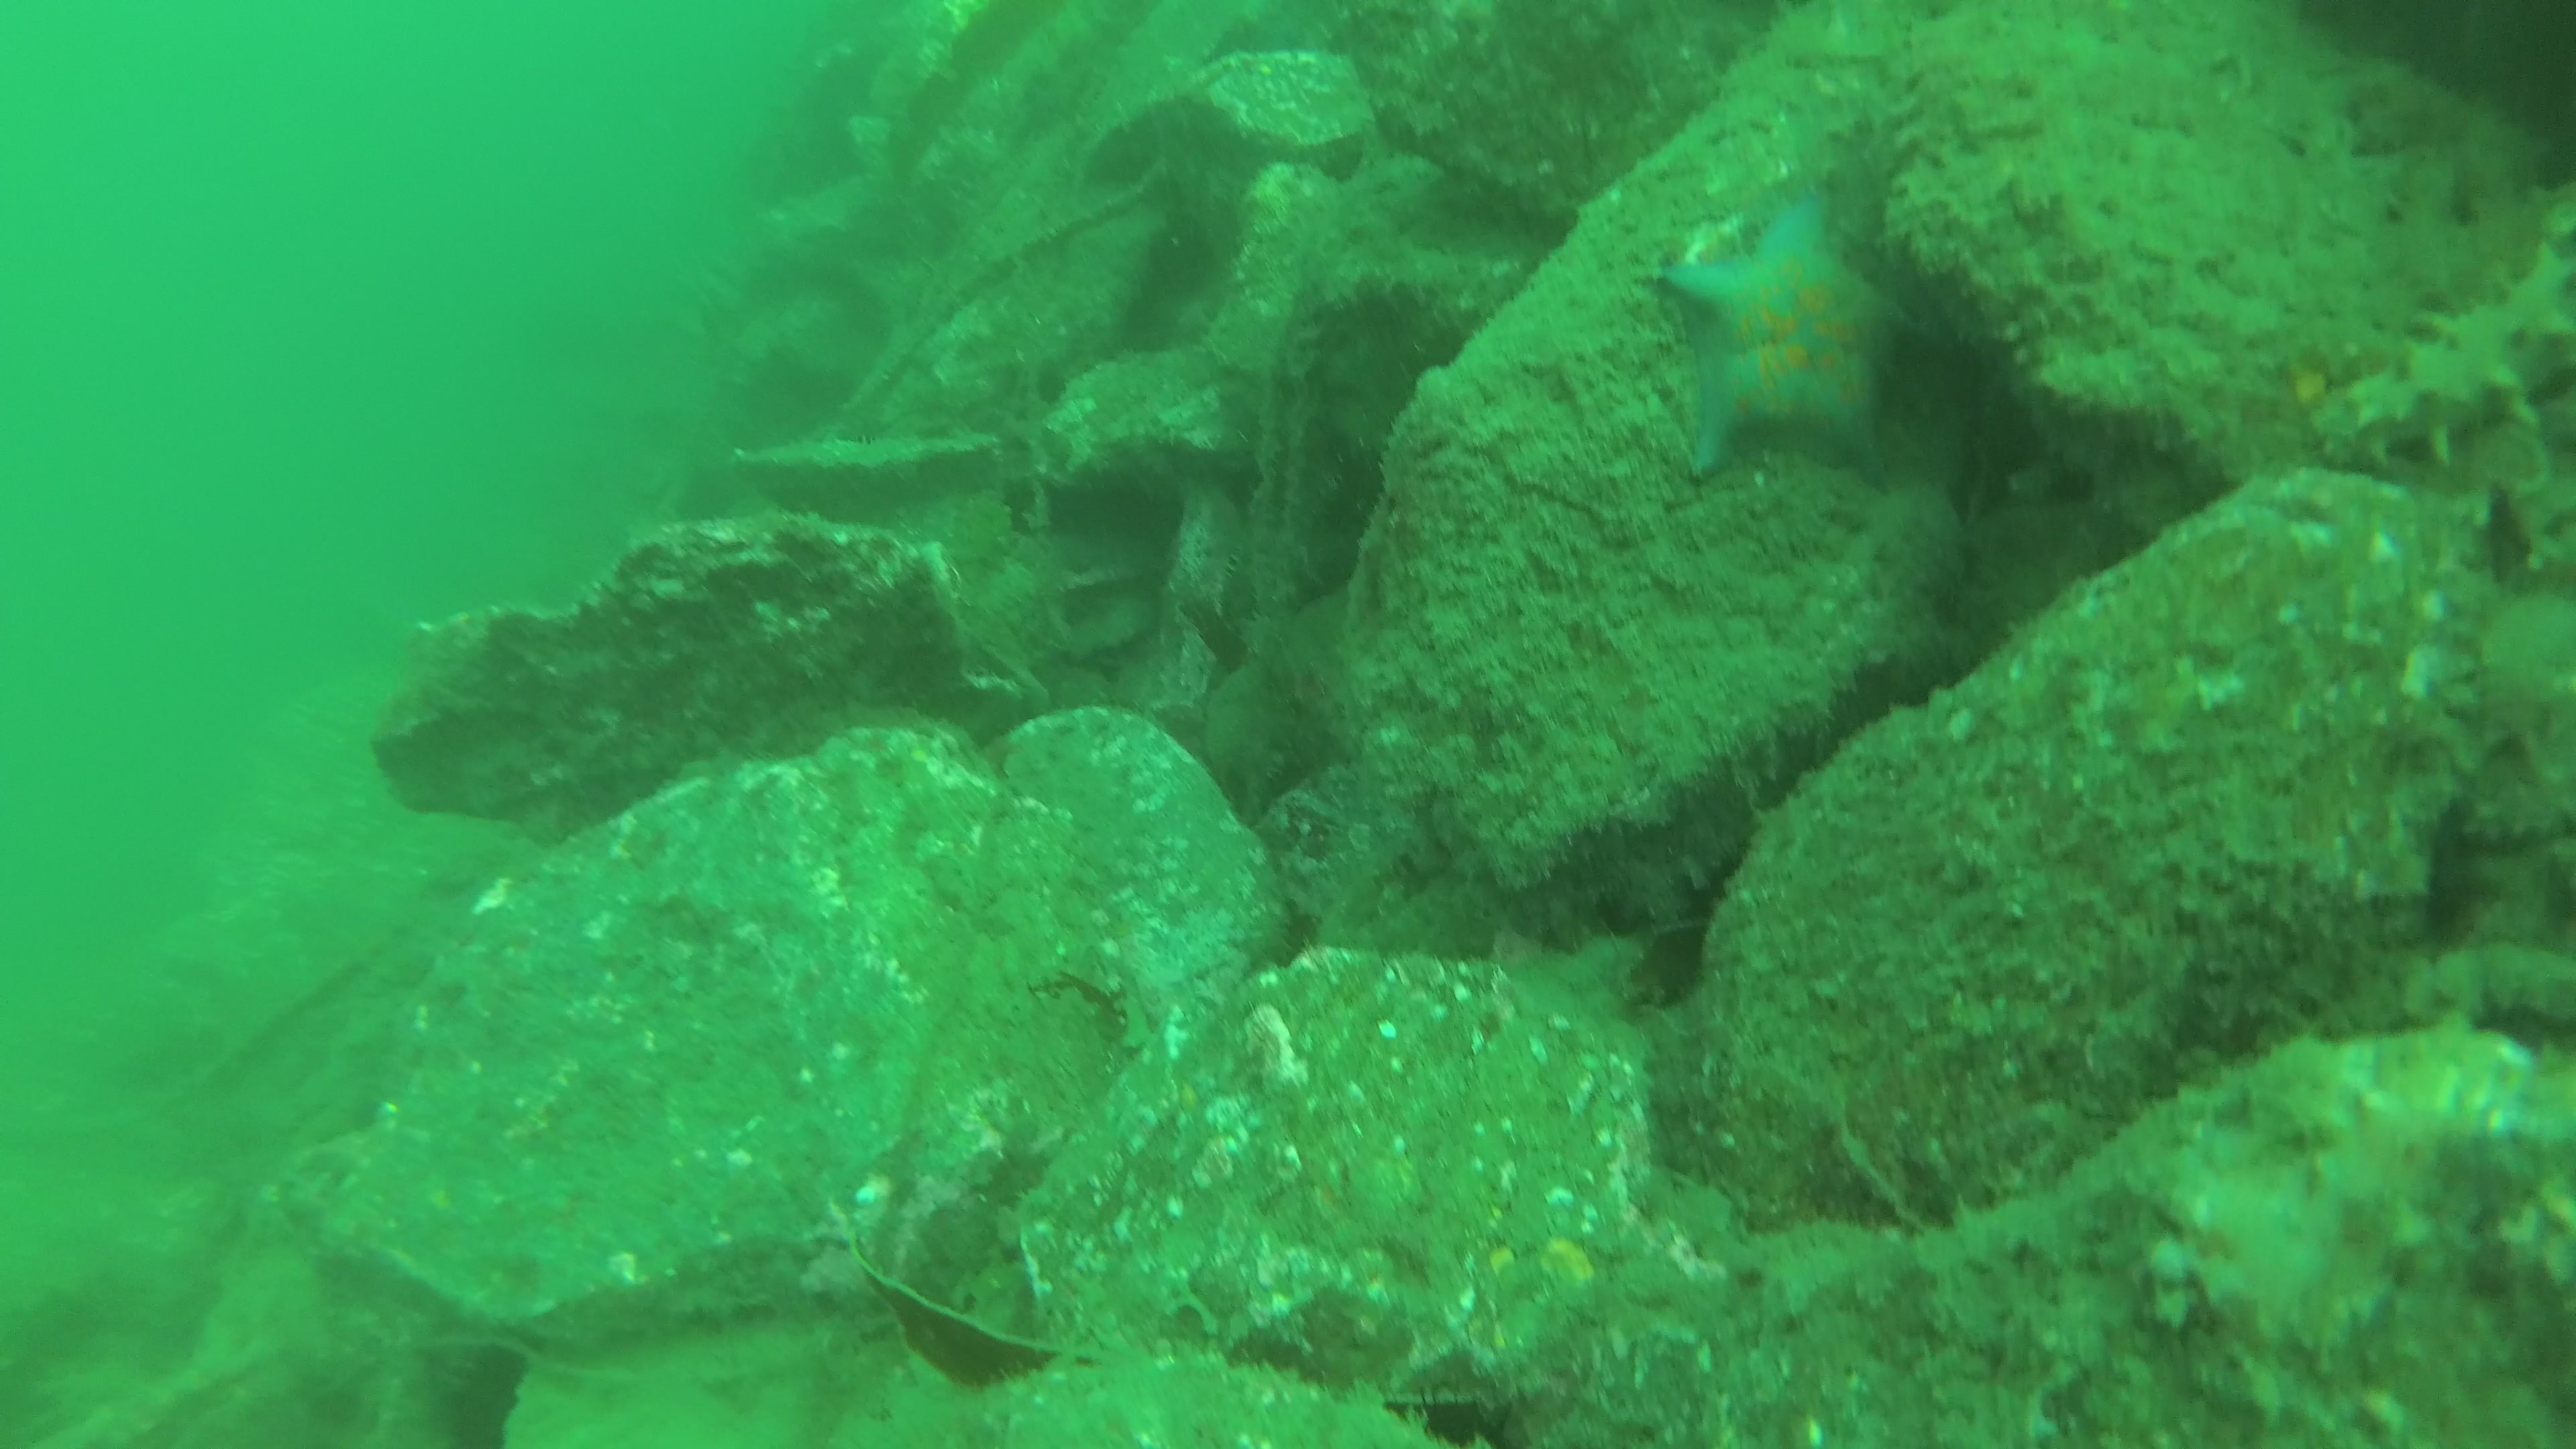holothurian: (2311, 235, 2576, 474)
starfish: (1656, 200, 1923, 487)
